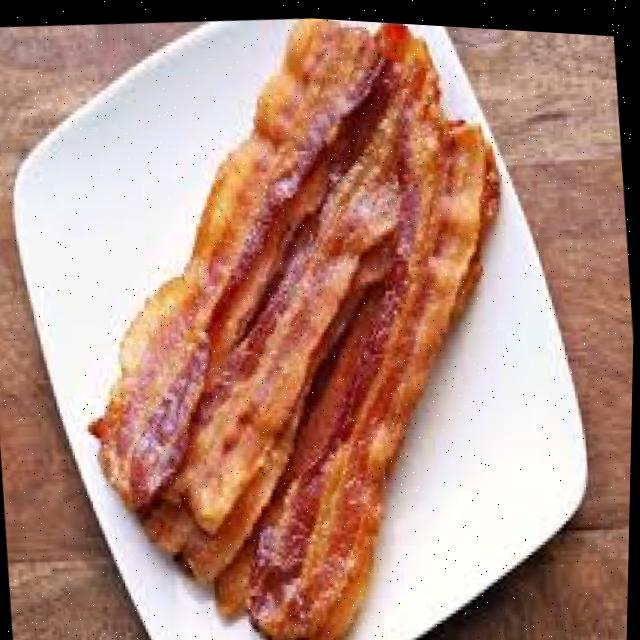Bacon: (99, 15, 381, 507), (231, 121, 495, 640), (173, 59, 409, 529)
